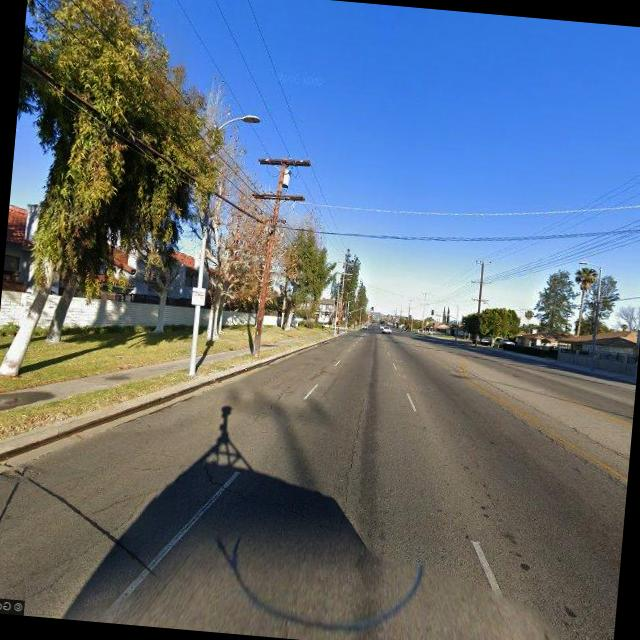crack: (186, 459, 327, 523), (338, 385, 372, 529)
